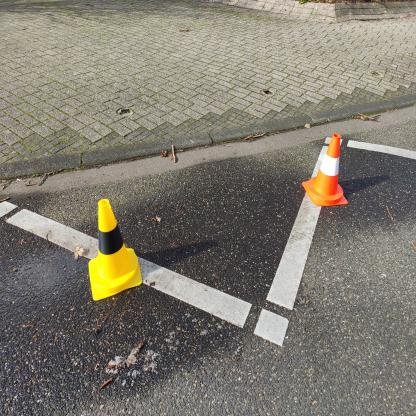Cones_small_orange: (300, 132, 350, 206)
Cones_small_yellow: (72, 187, 143, 303)
